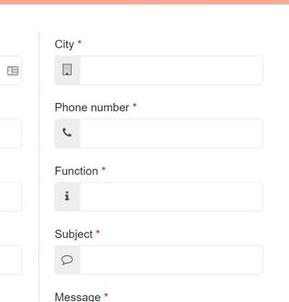field: (51, 242, 264, 275), (51, 54, 263, 87), (53, 181, 265, 213), (52, 117, 263, 149)
field_with_label: (49, 39, 265, 89), (51, 166, 267, 214), (50, 102, 264, 150), (49, 229, 266, 276)
